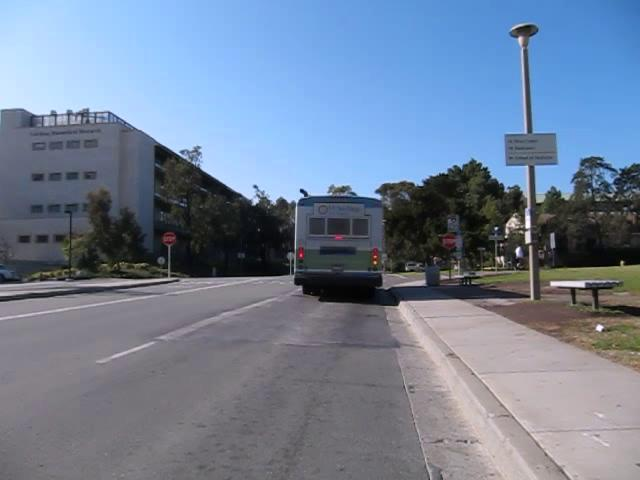stop: (161, 231, 176, 246)
